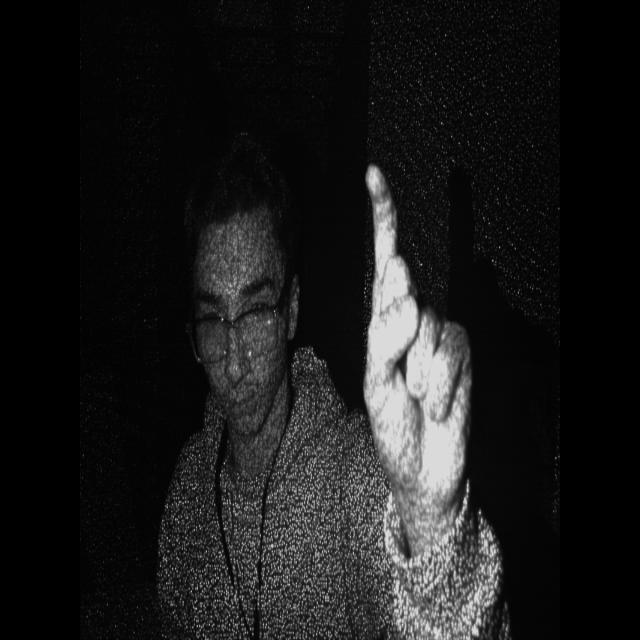X: (355, 151, 480, 543)
